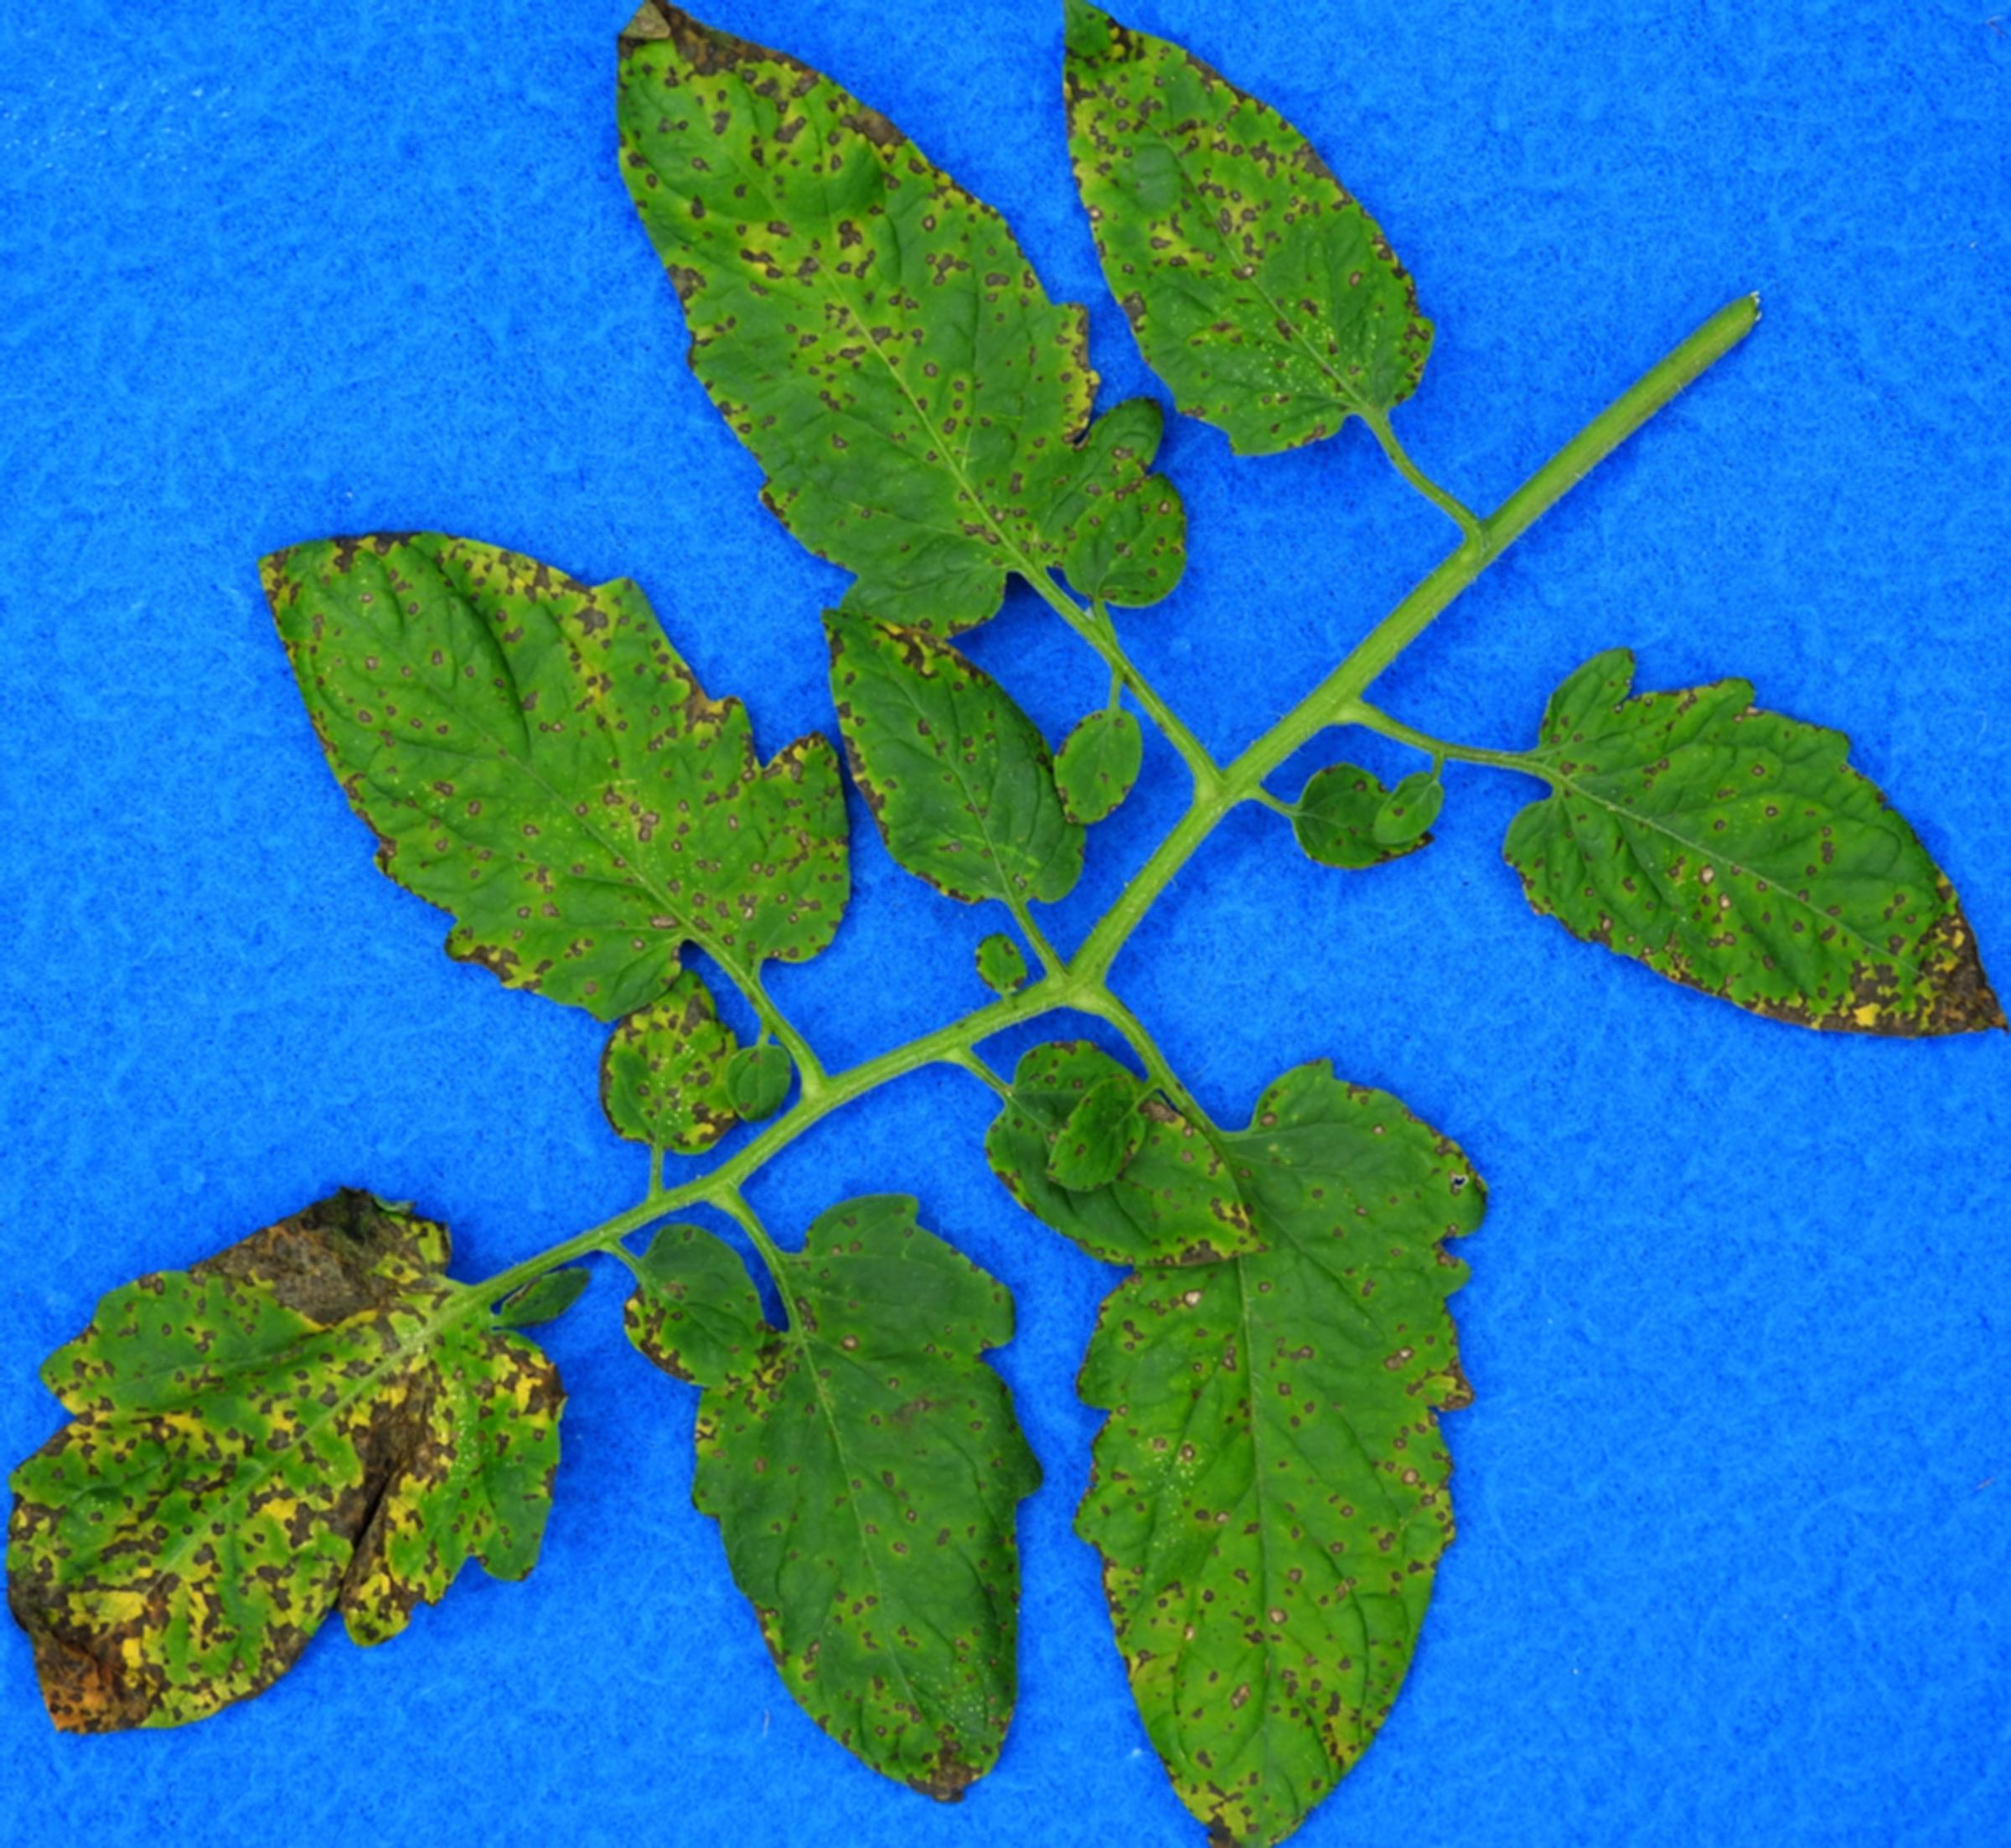Tomato Septoria leaf spot: (1046, 948, 1492, 1848), (1, 1148, 587, 1780), (609, 3, 1153, 675), (563, 1186, 1074, 1838), (260, 510, 856, 1028), (1491, 616, 1987, 1094), (1039, 5, 1448, 490), (809, 607, 1082, 923), (938, 1032, 1269, 1281)
